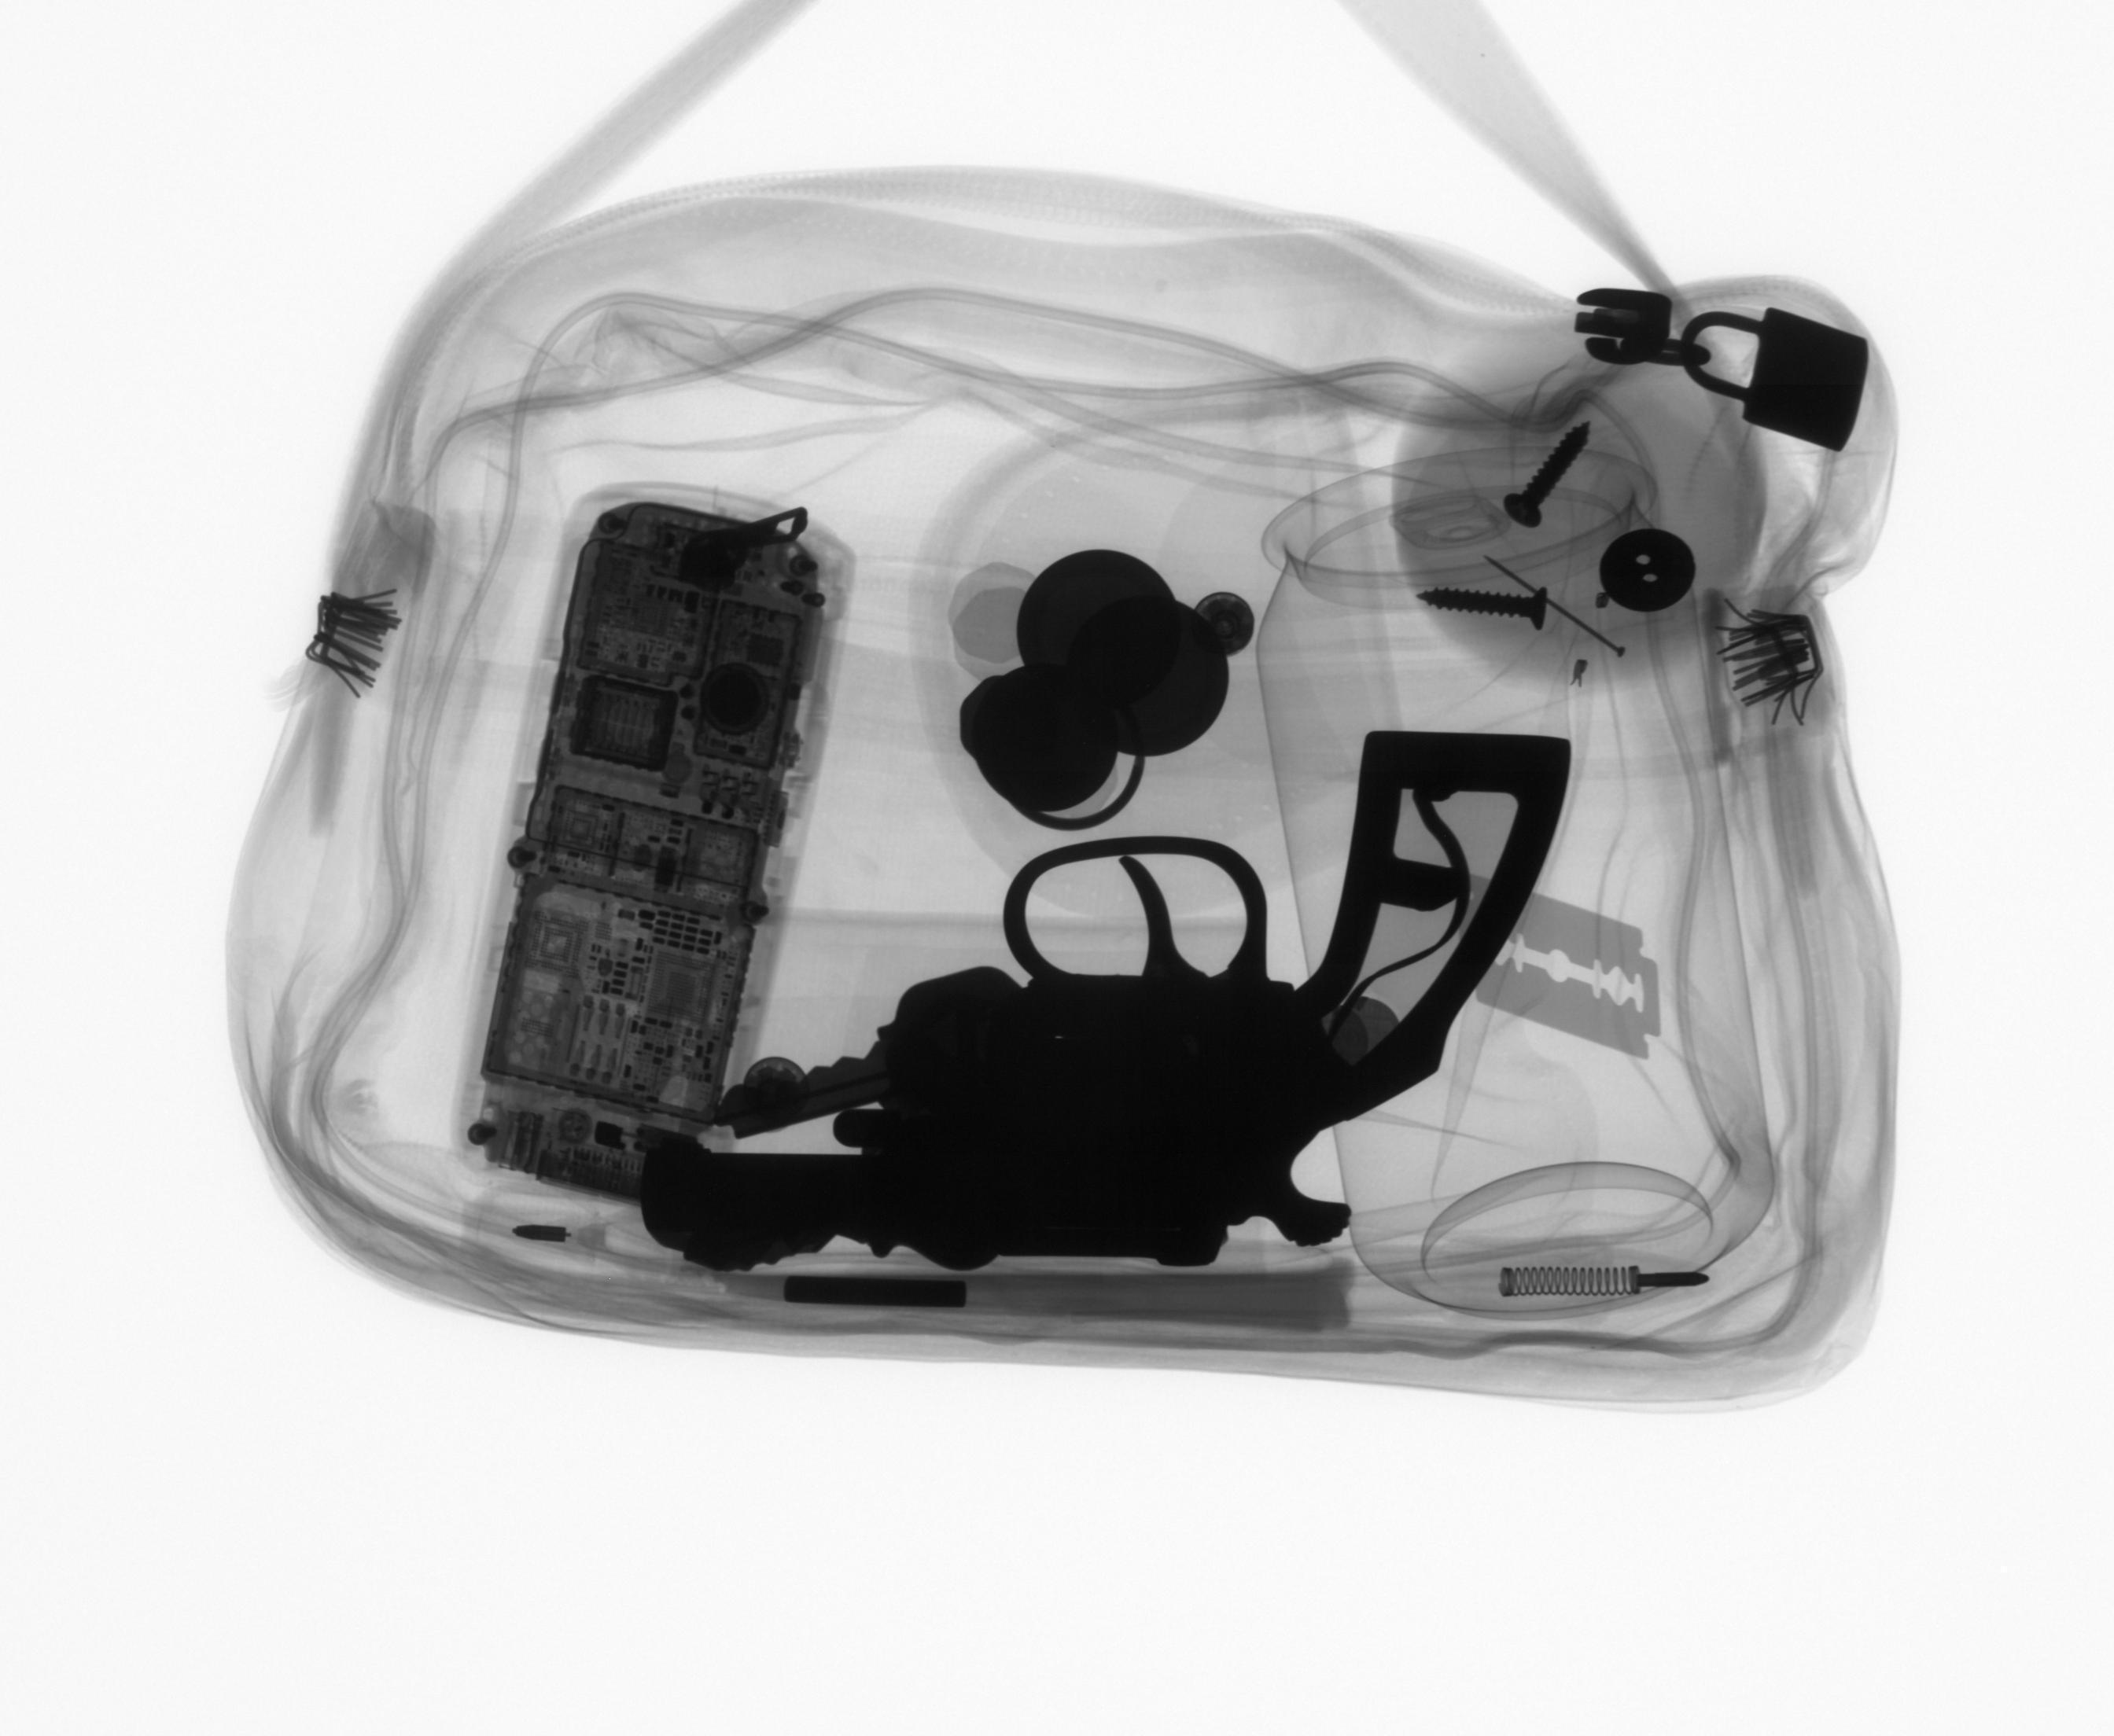Handgun: (623, 721, 1582, 1285)
RazorBlade: (1447, 871, 1668, 1062)
